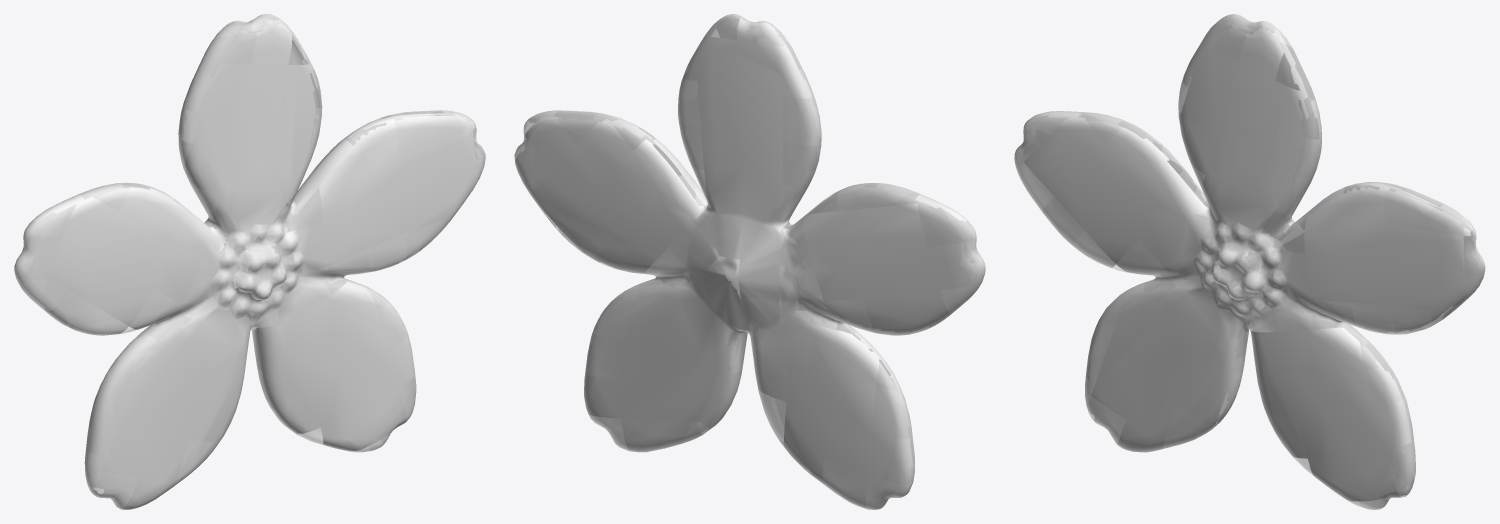
File: flower-lo-transformed.glb
3 views of the same model, side by side, from view 1: azimuth 30°, elevation 25°; view 2: azimuth 150°, elevation 25°; view 3: azimuth 330°, elevation 25° (orthographic).
Visible parts, largest first — view 1: falling petals; view 2: falling petals; view 3: falling petals.
Part boxes in pixels (x1,y1,x2,y2): falling petals: (14, 14, 485, 509); falling petals: (514, 14, 985, 509); falling petals: (1014, 14, 1485, 509).
Bounding box in the file's own units: 476 × 448 × 62.89.
1 material, 1 textured.
